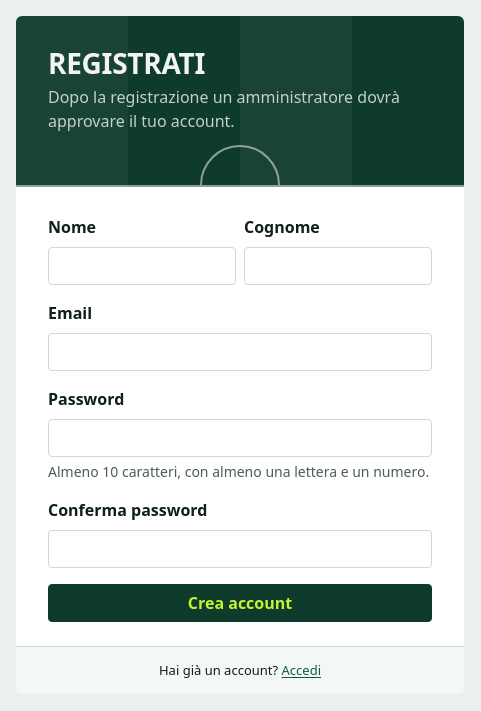
Test: RegisterPage › invia la registrazione senza il campo di conferma e mostra il messaggio del server
Type "Giulia" into the field labelled "Nome". click: [142, 266]
box: [48,247,236,285]
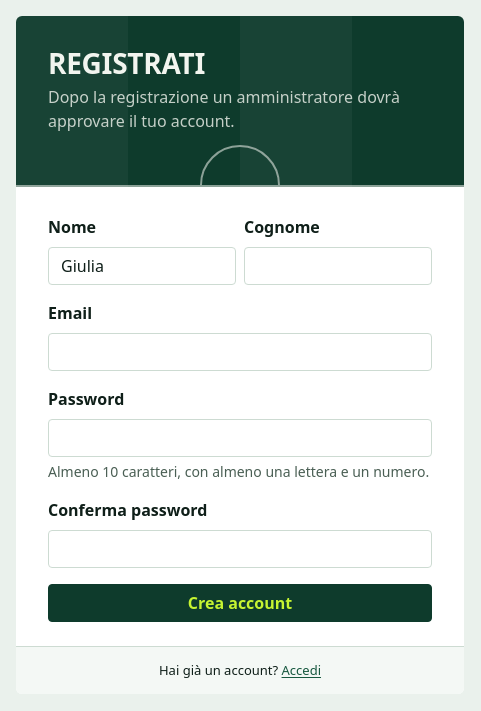
Type "Neri" into the field labelled "Cognome". click: [338, 266]
box: [244,247,432,285]
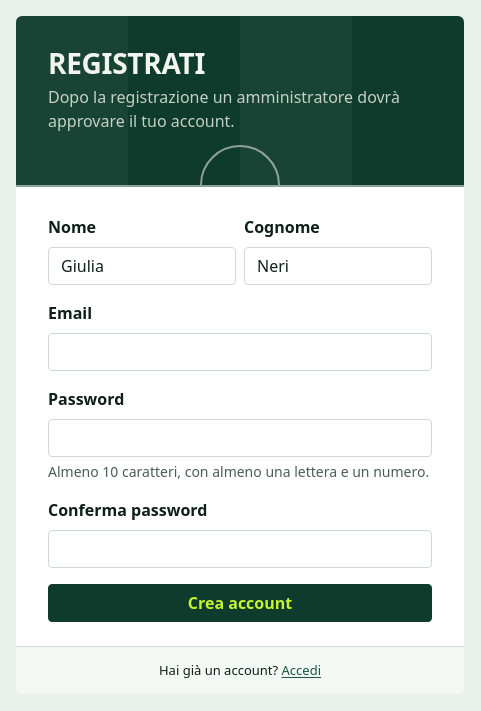
Type "giulia@example.com" into the field labelled "Email". click: [240, 352]
box: [48,333,432,371]
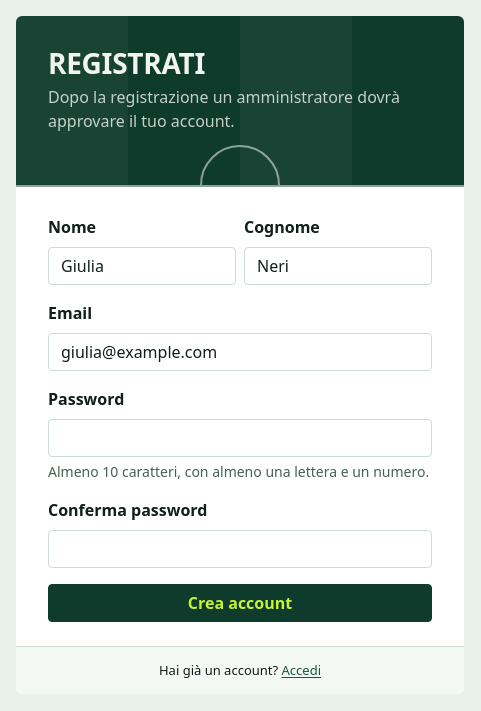
Type "Calcetto2026" into the password field labelled "Password". click: [240, 438]
box: [48,419,432,457]
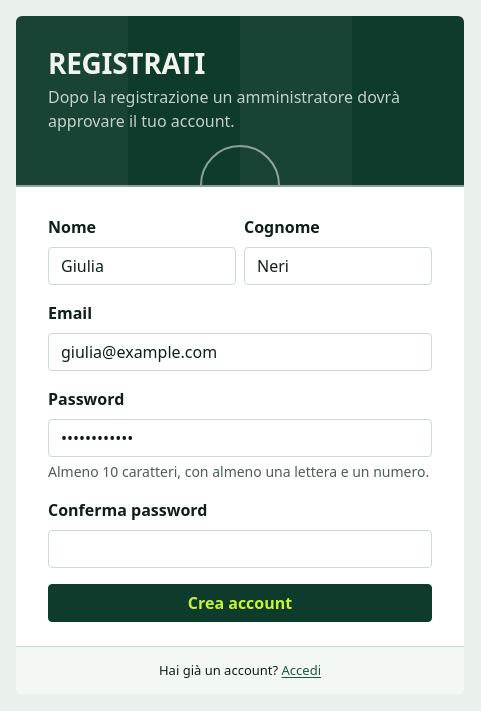
Type "Calcetto2026" into the password field labelled "Conferma password". click: [240, 549]
box: [48,530,432,568]
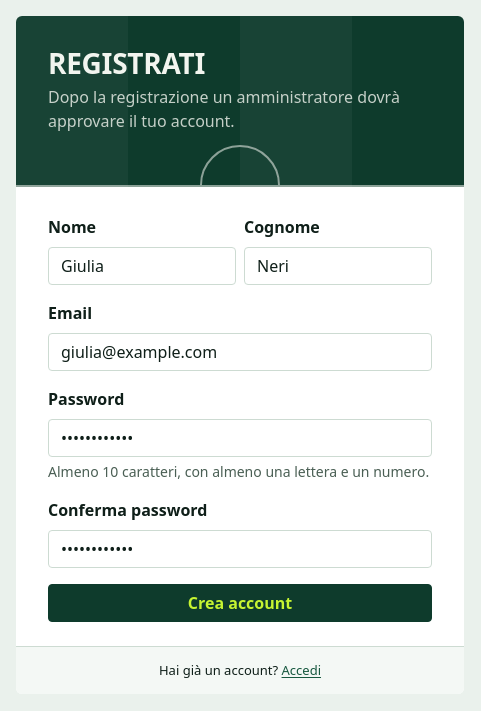
Click the button "Crea account". click: [240, 603]
box: [48,584,432,622]
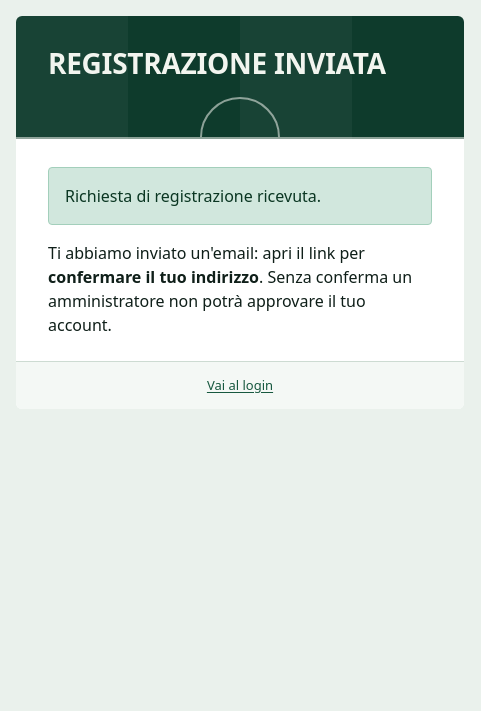
Now the text "Richiesta di registrazione ricevuta." is shown, box [48,167,432,225]
